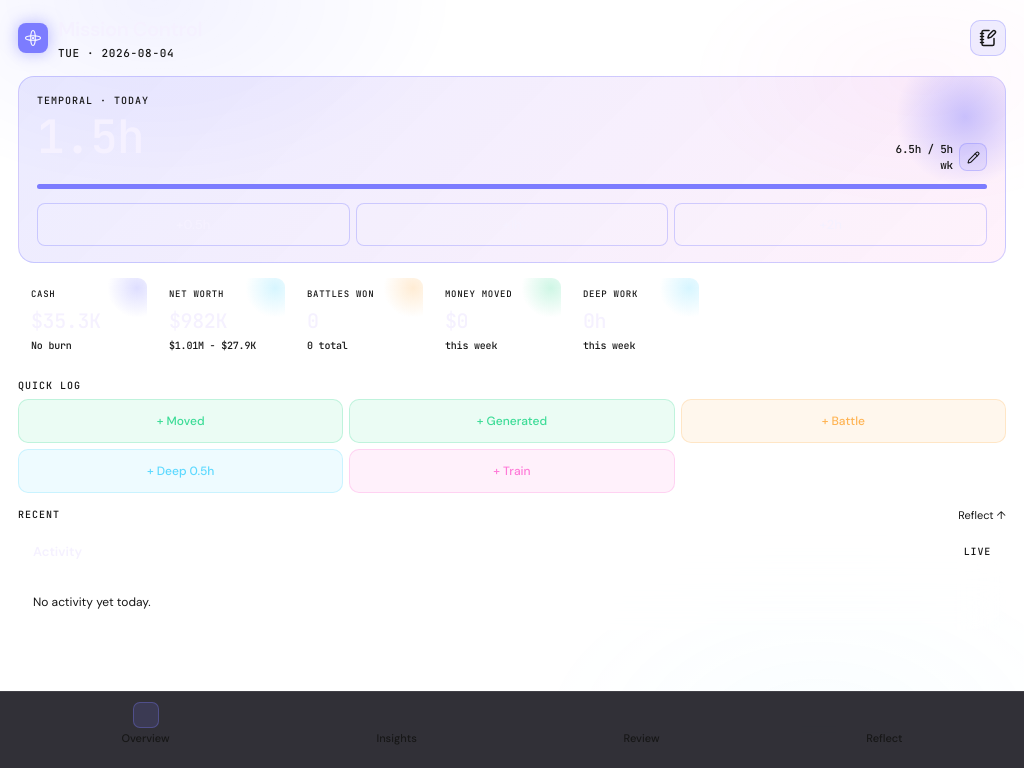
Test: <MobileLayout /> › hero goal pencil opens the editor and submits an updated Temporal target
This screenshot has width=1024, height=768.
expect the element with test id "mobile-temporal-goal-readout" shows "6.5h / 5h": met, box [896,140,953,174]
Click the button with test id "mobile-temporal-edit-goal". click: (973, 157)
box: [959,143,987,171]
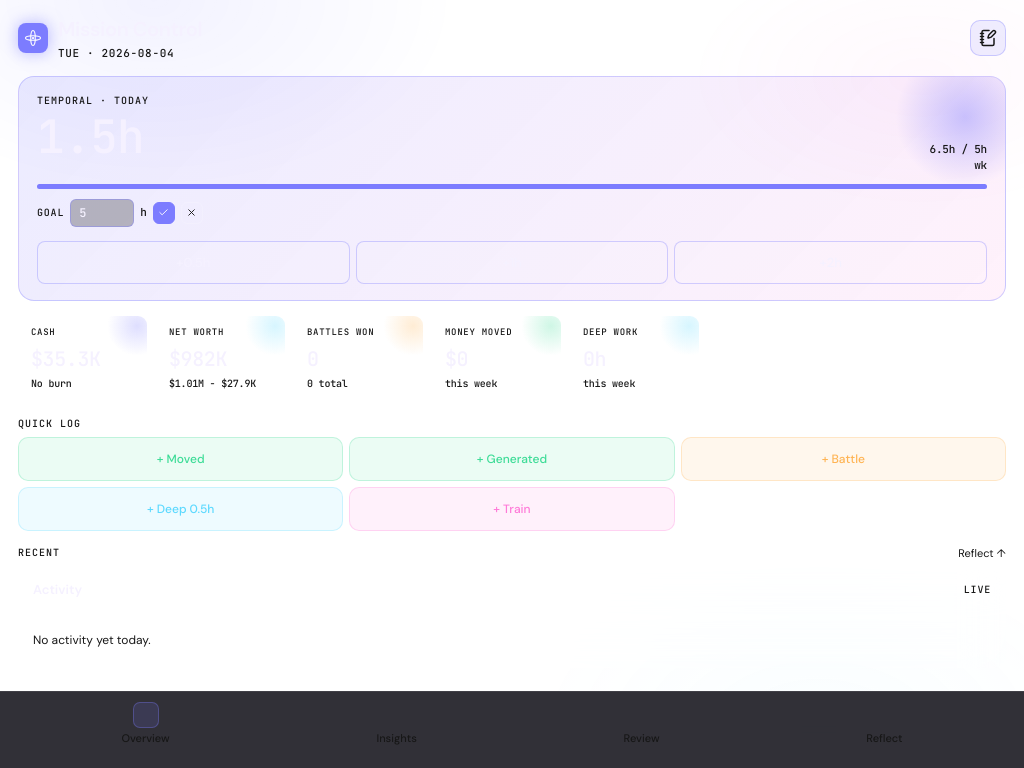
expect the element with test id "mobile-temporal-goal-editor-row" is shown: met, box [37,198,203,226]
Replace the text in the field with test id "mobile-temporal-goal-editor-input" with "8". click: (102, 212)
box: [70,198,134,226]
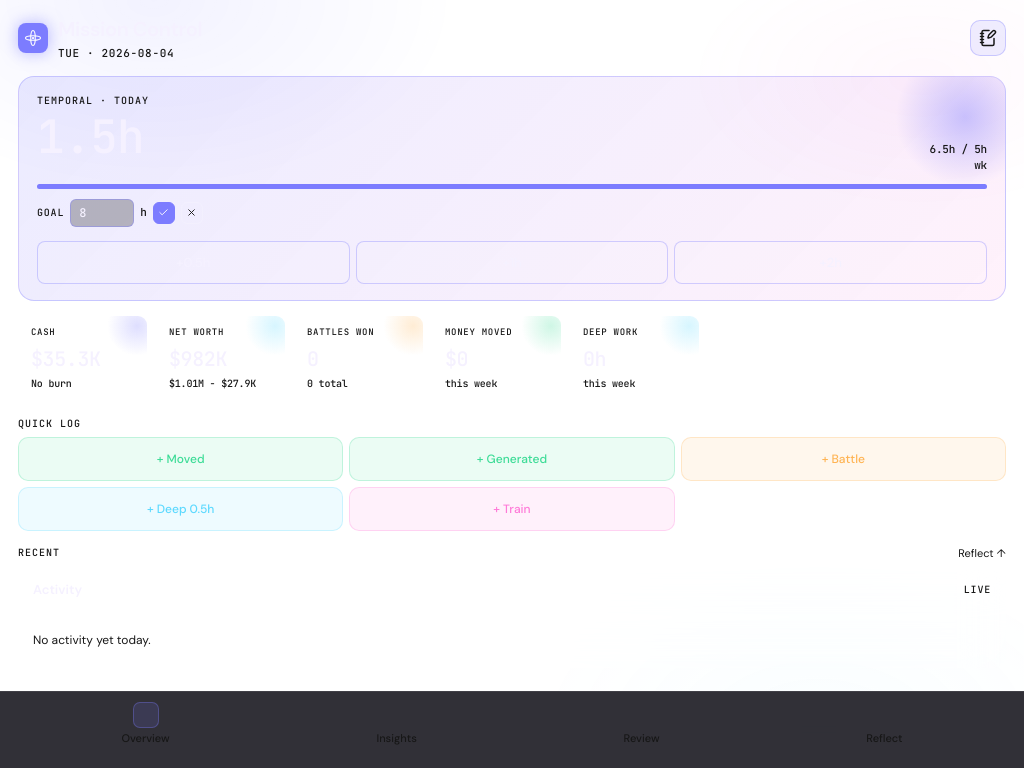
Click the button with test id "mobile-temporal-goal-editor-submit". click: (164, 212)
box: [153,202,175,224]
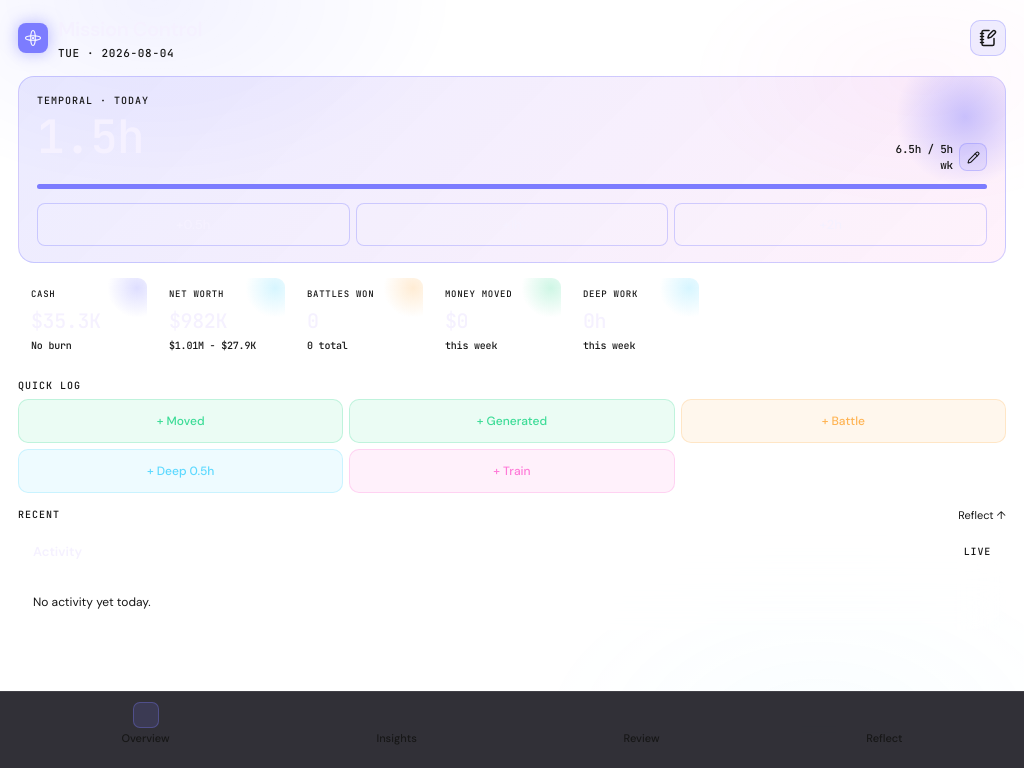
expect the element with test id "mobile-temporal-goal-editor-row" is gone: met
